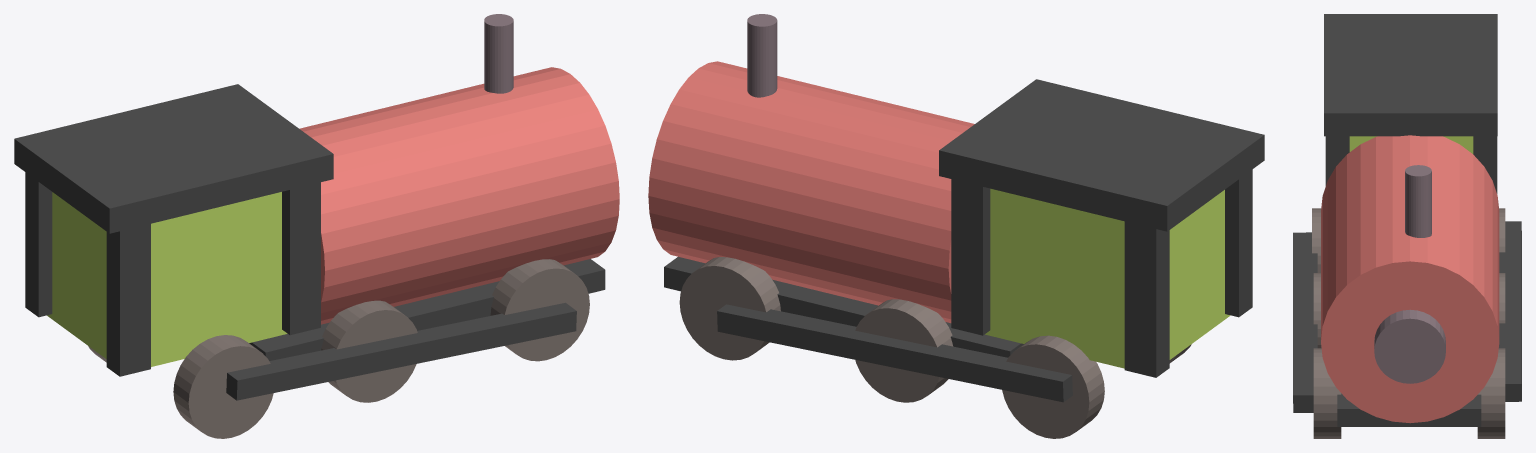
File: train.fbx
3 renders of one model, left to right at view 1: azimuth 30°, elevation 25°; view 2: azimuth 150°, elevation 25°; view 3: azimuth 270°, elevation 25°, orthographic. The views are drawn at different scales.
Parts seen in each view (by area): view 1: Cylinder, Roof, Room, Support.001, Wheel.005, RoomSupport.003, RoomSupport.002, Wheel.002, Bottom, Wheel.003, RoomSupport.001, Cylinder.002; view 2: Cylinder, Roof, Room, Support, RoomSupport.001, Wheel, Wheel.004, RoomSupport, Wheel.001, Bottom, RoomSupport.003, Cylinder.002; view 3: Cylinder, Roof, Cylinder.001, Support.001, Support, Bottom, Cylinder.002, Wheel.002, Wheel, RoomSupport, RoomSupport.002, Wheel.003 (+4 smaller).
Boxes of the visible parts, bbox=[...] form: Cylinder: bbox=[299, 67, 619, 324]; Roof: bbox=[14, 84, 333, 233]; Room: bbox=[47, 192, 287, 366]; Support.001: bbox=[226, 302, 576, 400]; Wheel.005: bbox=[173, 335, 273, 438]; RoomSupport.003: bbox=[106, 224, 150, 376]; RoomSupport.002: bbox=[282, 182, 320, 335]; Wheel.002: bbox=[490, 259, 589, 361]; Bottom: bbox=[249, 259, 605, 360]; Wheel.003: bbox=[321, 300, 417, 402]; RoomSupport.001: bbox=[25, 172, 52, 317]; Cylinder.002: bbox=[484, 14, 513, 93]; Cylinder: bbox=[648, 61, 974, 323]; Roof: bbox=[939, 79, 1264, 231]; Room: bbox=[985, 188, 1230, 368]; Support: bbox=[717, 304, 1072, 402]; RoomSupport.001: bbox=[1124, 221, 1169, 377]; Wheel: bbox=[679, 257, 780, 360]; Wheel.004: bbox=[1002, 335, 1104, 438]; RoomSupport: bbox=[951, 179, 990, 335]; Wheel.001: bbox=[855, 299, 953, 402]; Bottom: bbox=[664, 256, 1023, 357]; RoomSupport.003: bbox=[1225, 169, 1252, 317]; Cylinder.002: bbox=[747, 14, 777, 97]; Cylinder: bbox=[1321, 135, 1499, 423]; Roof: bbox=[1324, 14, 1497, 136]; Cylinder.001: bbox=[1374, 309, 1445, 383]; Support.001: bbox=[1293, 232, 1317, 412]; Support: bbox=[1499, 221, 1521, 401]; Bottom: bbox=[1337, 393, 1481, 426]; Cylinder.002: bbox=[1405, 165, 1431, 237]; Wheel.002: bbox=[1313, 348, 1341, 438]; Wheel: bbox=[1477, 348, 1505, 438]; RoomSupport: bbox=[1473, 136, 1497, 193]; RoomSupport.002: bbox=[1325, 136, 1349, 185]; Wheel.003: bbox=[1313, 273, 1321, 348].
Size of the model in its own units: 213 by 87.78 by 114.
